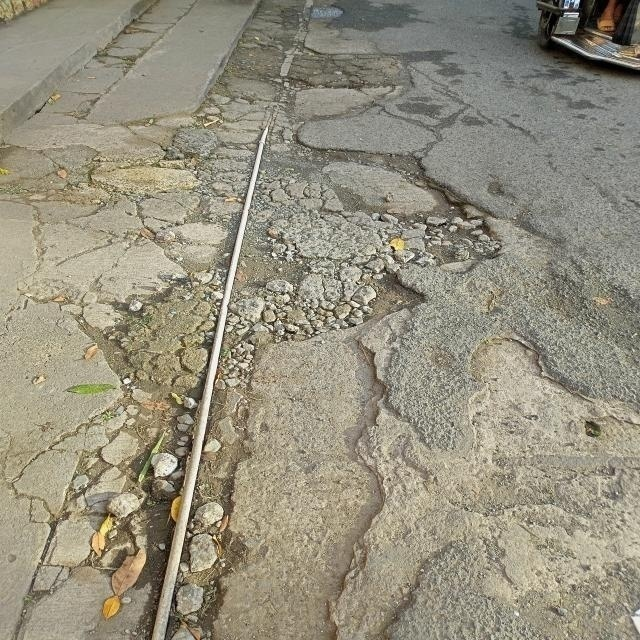pothole: (252, 140, 496, 331)
